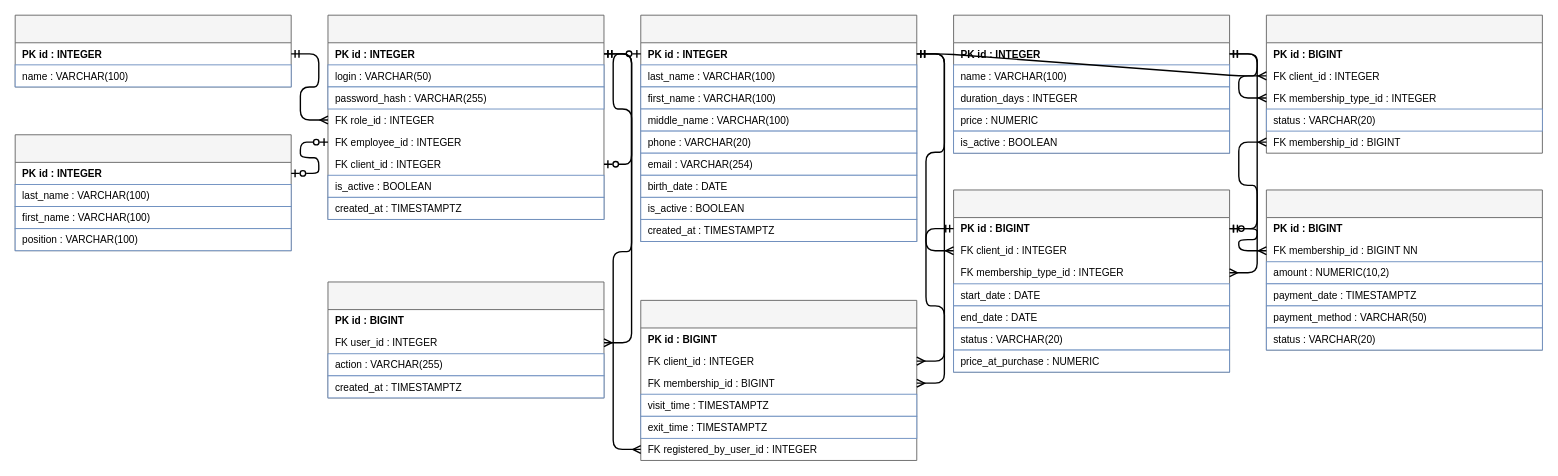
Image size: 1558x476. Some labels were removed from this diagram. Here are the shapes that lost their labels. From the top down, the box of each, then its label:
(14, 14, 291, 87): roles
(953, 14, 1230, 153): membership_types
(1265, 14, 1542, 153): membership_requests
(327, 14, 604, 219): users
(640, 14, 917, 242): clients
(14, 134, 291, 251): employees
(953, 189, 1230, 372): memberships
(1265, 189, 1542, 350): payments
(327, 281, 604, 398): audit_log
(640, 299, 917, 460): visits
